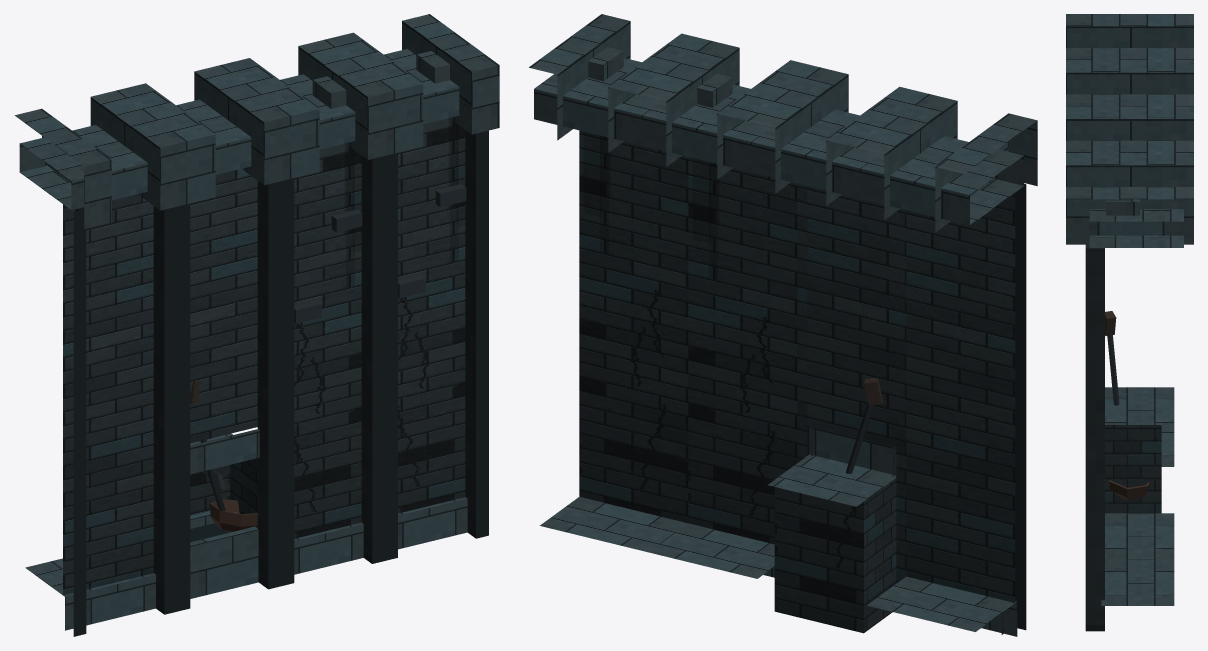
File: T1_Mid_B.fbx
3 views of the same model, side by side, from view 1: azimuth 30°, elevation 25°; view 2: azimuth 150°, elevation 25°; view 3: azimuth 270°, elevation 25° (orthographic). The views are drawn at different scales.
Parts seen in each view (by area): view 1: T1_Mid_B; view 2: T1_Mid_B; view 3: T1_Mid_B.
Boxes of the visible parts, box(x1,y1,x2,y2) form: T1_Mid_B: box(14, 14, 499, 636); T1_Mid_B: box(529, 14, 1037, 636); T1_Mid_B: box(1066, 14, 1193, 631).
Size of the model in its own units: 4.5 by 4.95 by 1.31.
